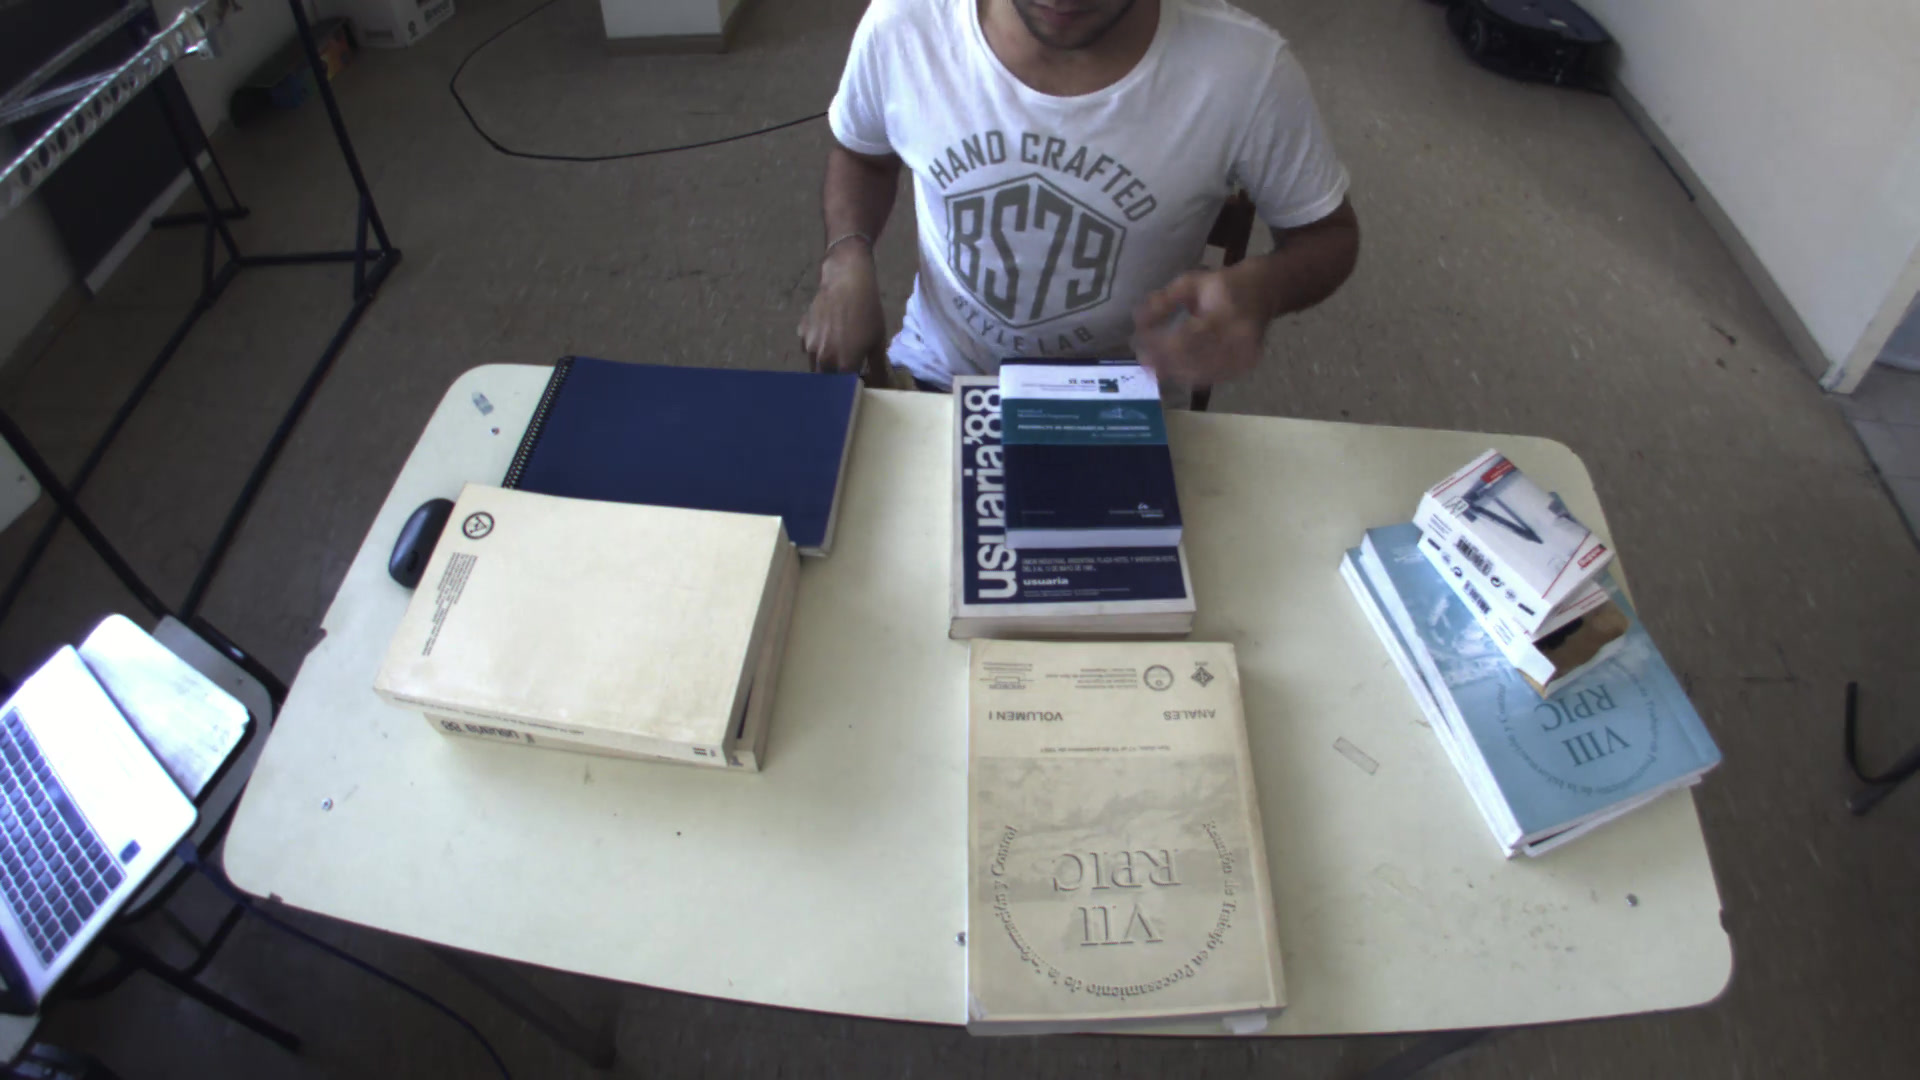hand: (1124, 253, 1283, 398), (782, 239, 884, 377)
